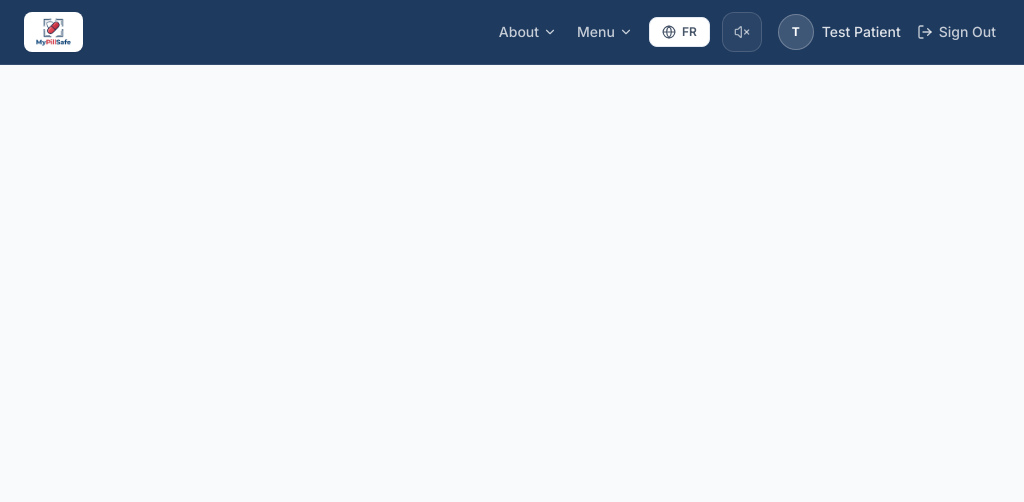
it: Navbar tray-check entry (VITE_TRAY_CHECK) › bar: flag "on" -- the tray-check entry is present
Click the button "Menu" at (605, 32), box x1=573 y1=10 x2=637 y2=54
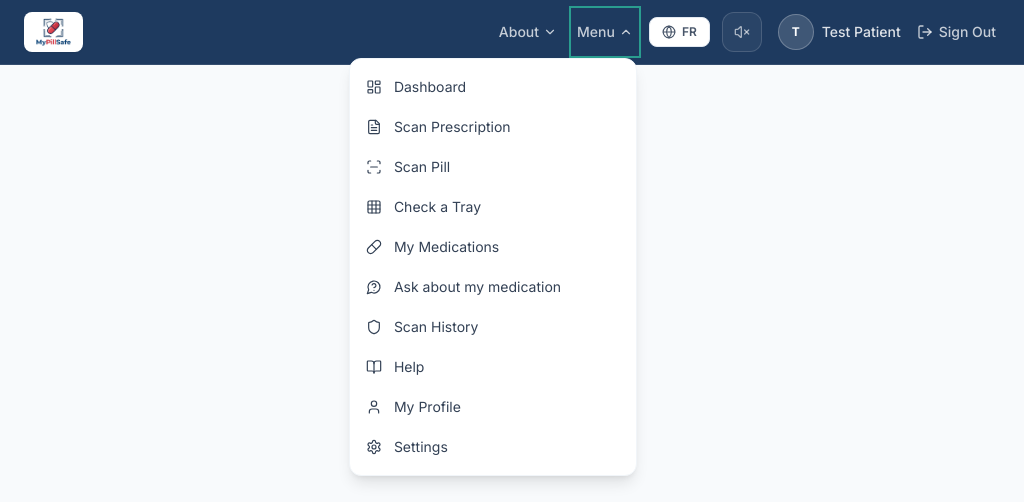
Expected: the link "Check a Tray" is shown, x1=366 y1=198 x2=481 y2=215
